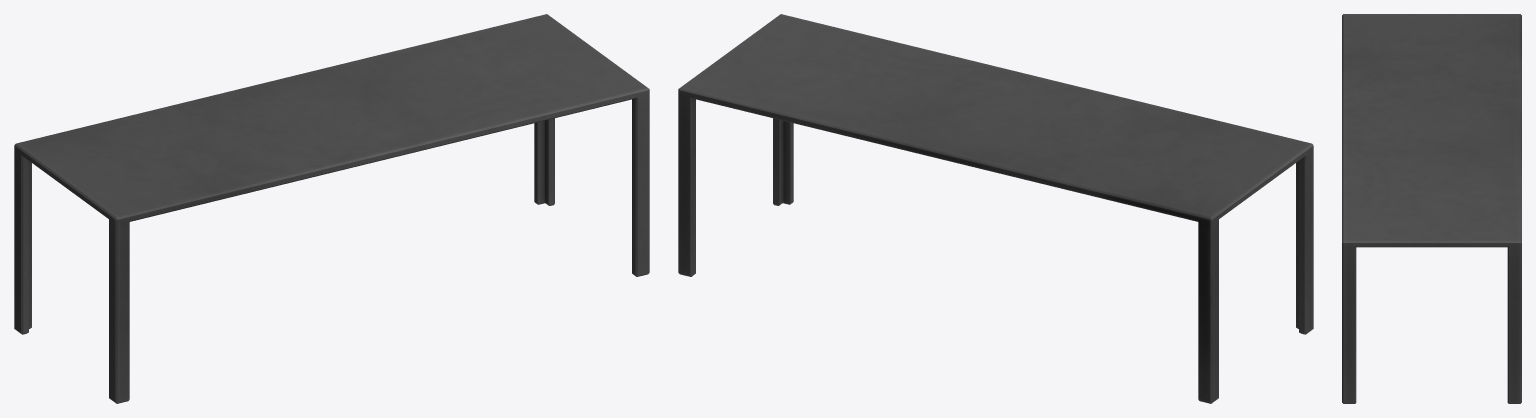
Rendered from office-table.glb.
The picture shows the model from 3 angles, left to right: view 1: azimuth 30°, elevation 25°; view 2: azimuth 150°, elevation 25°; view 3: azimuth 270°, elevation 25°; orthographic projection. The views are drawn at different scales.
Parts seen in each view (by area): view 1: office-table; view 2: office-table; view 3: office-table.
Boxes of the visible parts, box(x1,y1,x2,y2) form: office-table: box(14, 14, 649, 403); office-table: box(678, 14, 1313, 403); office-table: box(1342, 14, 1521, 403).
Bounding box in the file's own units: 1.5 × 0.5 × 0.5.
1 material, 1 textured.
